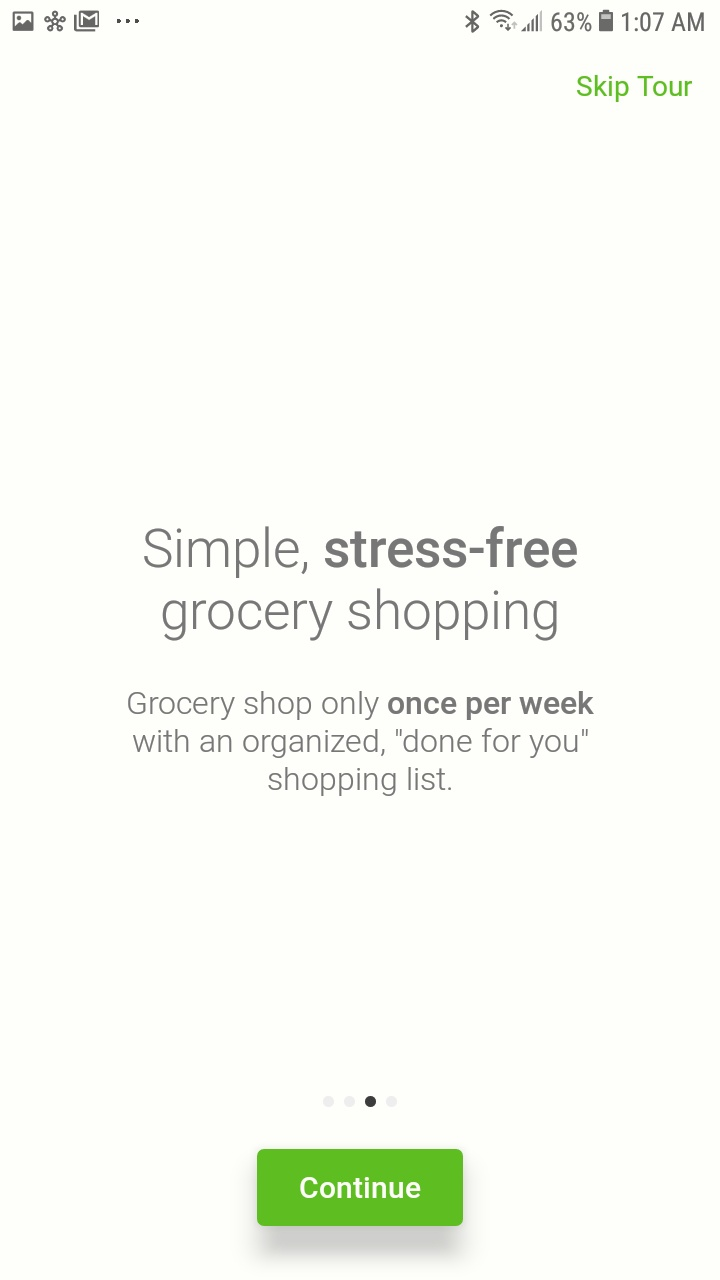PageIndicator: (323, 1095, 399, 1108)
Text: (144, 525, 579, 642), (128, 690, 595, 798), (577, 75, 693, 104)
TextButton: (257, 1149, 464, 1227)
UpperTaskBar: (1, 1, 720, 35)
